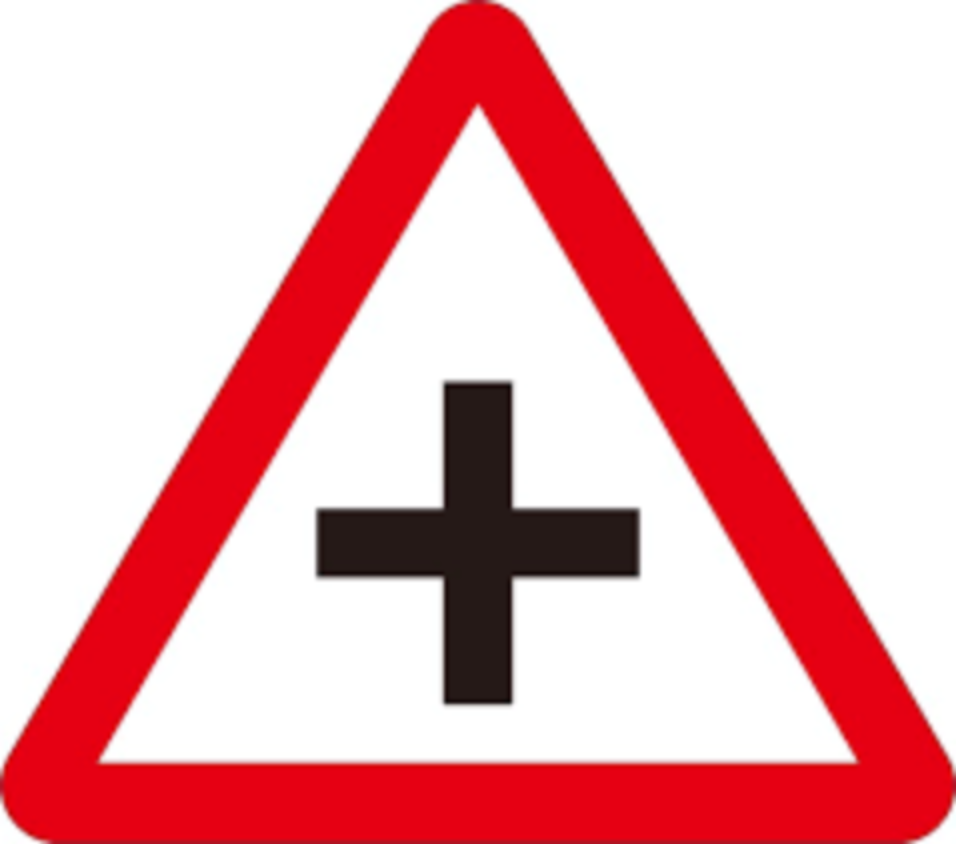Fork_road: (5, 1, 945, 844)
